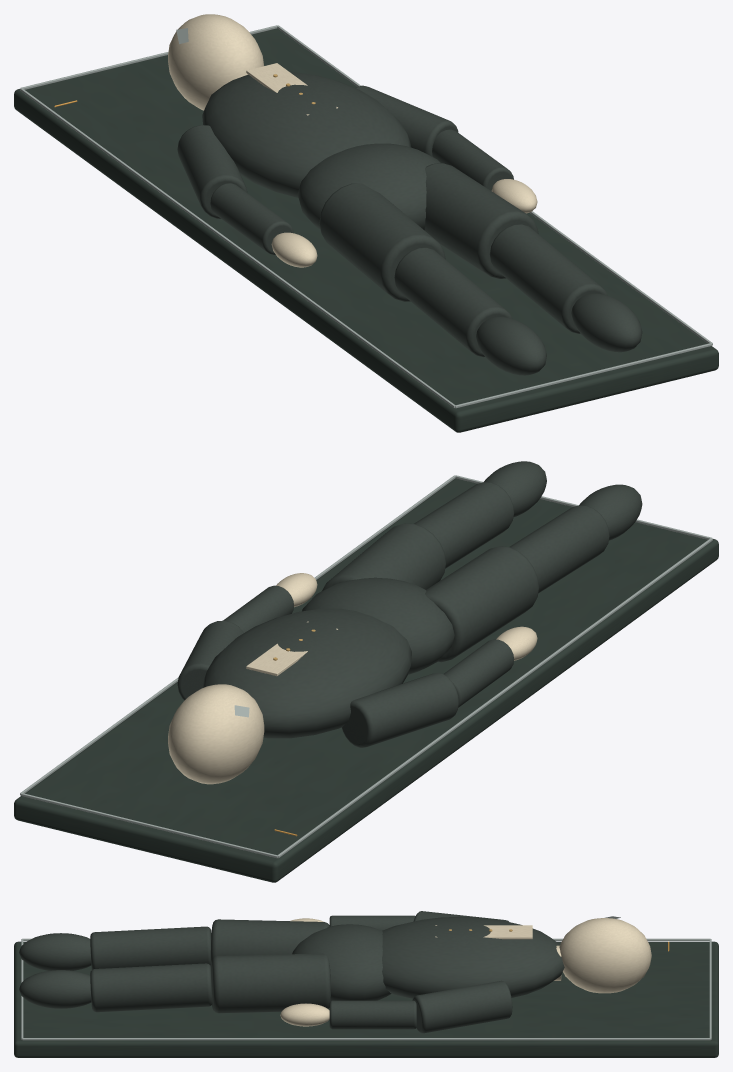
The model's file is body-analysis.glb.
The picture shows the model from 3 angles, top to bottom: view 1: azimuth 30°, elevation 25°; view 2: azimuth 150°, elevation 25°; view 3: azimuth 270°, elevation 25°; orthographic projection. The views are drawn at different scales.
Parts seen in each view (by area): view 1: body_position, chest, thigh, thigh.001, hip, lower_leg.001, lower_leg, head_injury, upper_arm, shoe.001, shoe, lower_arm (+9 smaller); view 2: body_position, chest, head_injury, thigh, hip, upper_arm, lower_leg, thigh.001, lower_leg.001, lower_arm, upper_arm.001, slab_rim_Left (+8 smaller); view 3: body_position, chest, thigh.001, head_injury, lower_leg.001, hip, lower_leg, upper_arm.001, thigh, lower_arm.001, shoe.001, shoe (+6 smaller).
Boxes of the visible parts, x1,y1,x2,y2 form: body_position: (14,28,718,432); chest: (202,71,411,197); thigh: (319,183,445,301); thigh.001: (424,163,538,278); hip: (297,143,440,230); lower_leg.001: (489,224,607,333); lower_leg: (394,247,512,357); head_injury: (168,14,263,110); upper_arm: (177,125,247,218); shoe.001: (571,293,642,352); shoe: (476,316,546,375); lower_arm: (210,183,293,254); body_position: (14,478,718,882); chest: (203,608,411,738); head_injury: (168,684,264,784); thigh: (425,546,538,662); hip: (302,577,454,674); upper_arm: (342,673,458,747); lower_leg: (509,505,609,593); thigh.001: (322,523,446,590); lower_leg.001: (414,482,514,568); lower_arm: (444,639,514,707); upper_arm.001: (177,620,243,700); slab_rim_Left: (277,538,712,858); body_position: (14,941,718,1057); chest: (382,916,564,998); thigh.001: (211,953,330,1013); head_injury: (559,918,651,993); lower_leg.001: (90,963,212,1012); hip: (292,924,391,1000); lower_leg: (90,926,211,969); upper_arm.001: (412,980,512,1033); thigh: (210,919,329,963); lower_arm.001: (329,1000,416,1029); shoe.001: (19,970,91,1008); shoe: (19,933,91,970).
Size of the model in its own units: 0.72 by 0.2875 by 2.1.
6 materials, 3 textured.
